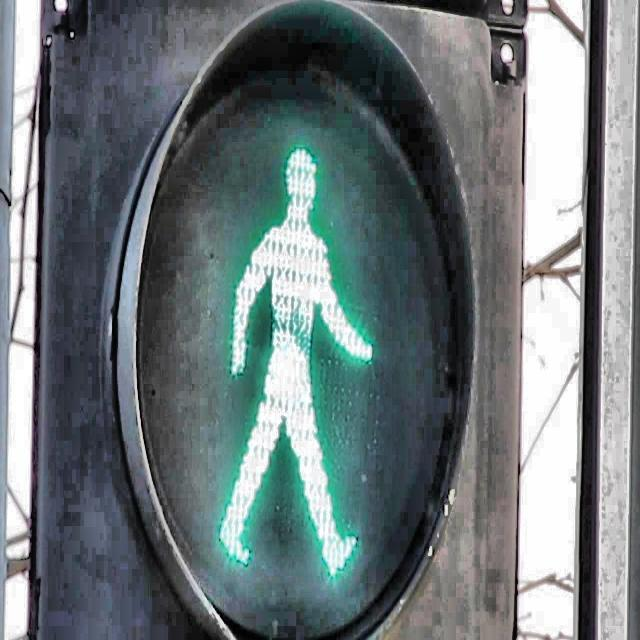green_light: (216, 135, 376, 589)
